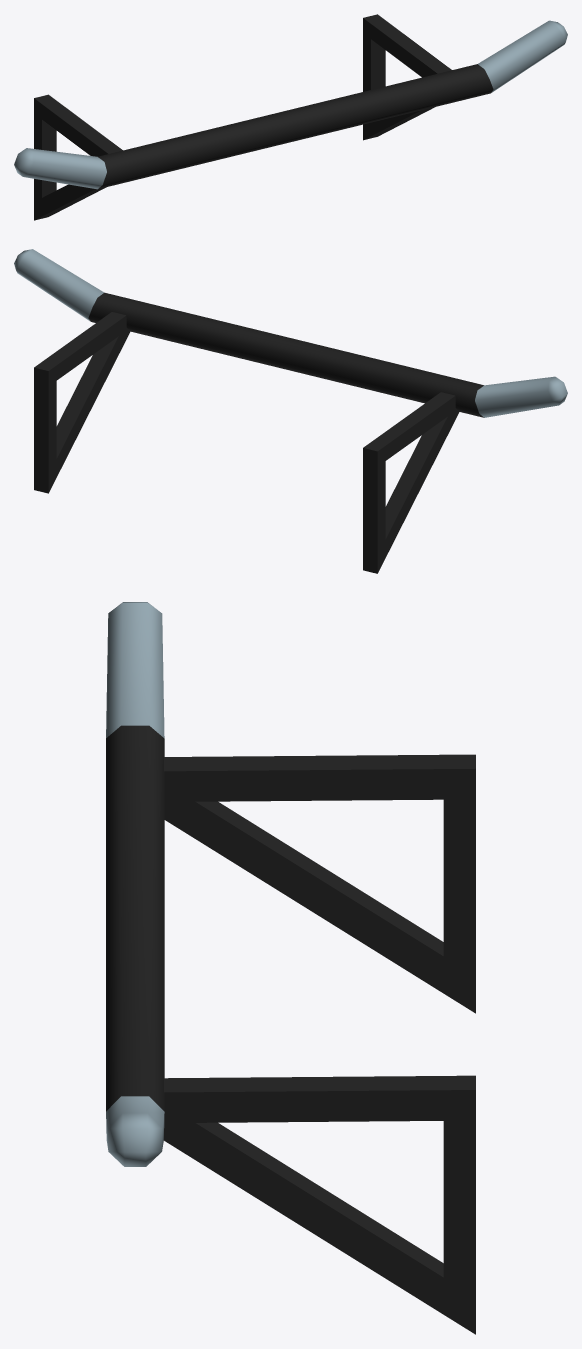
File: training_014.fbx
The picture shows the model from 3 angles, top to bottom: view 1: azimuth 30°, elevation 25°; view 2: azimuth 150°, elevation 25°; view 3: azimuth 270°, elevation 25°; orthographic projection. The views are drawn at different scales.
Visible parts, largest first — view 1: training_014; view 2: training_014; view 3: training_014.
Part boxes in pixels (x1,y1,x2,y2): training_014: [14, 14, 567, 220]; training_014: [14, 249, 567, 573]; training_014: [106, 602, 475, 1334].
Bounding box in the file's own units: 139 × 40.58 × 37.4.
